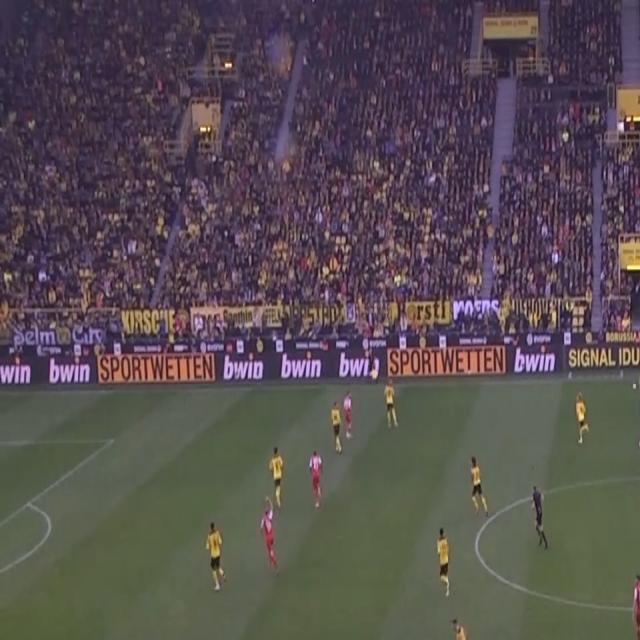ball: (632, 380, 638, 392)
